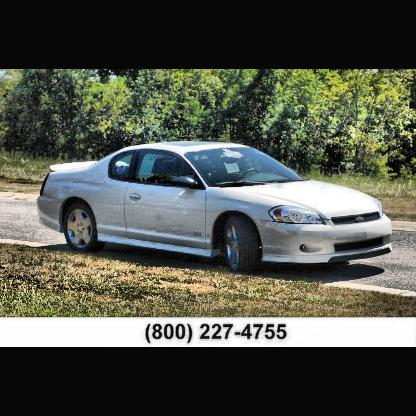Chevrolet Monte Carlo Coupe 2007: (34, 137, 398, 281)
